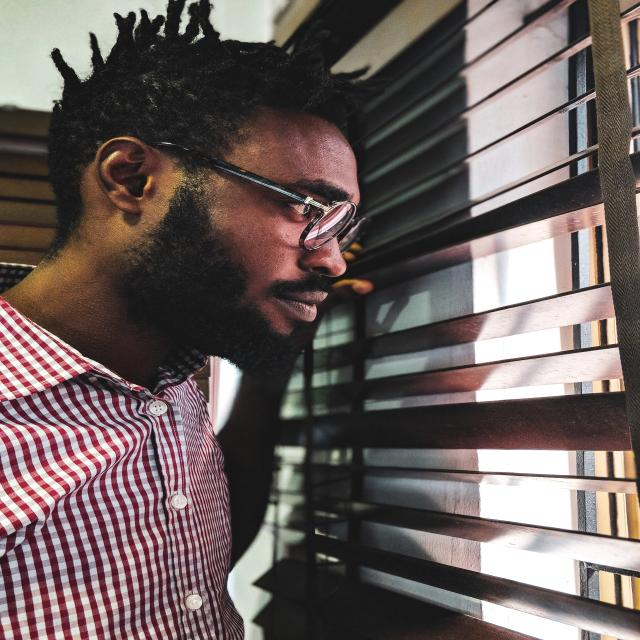adult: (0, 31, 359, 640)
